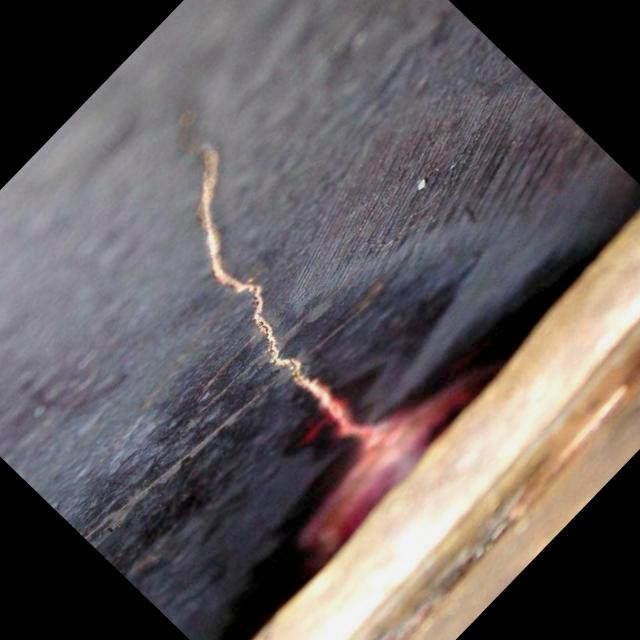defect: (161, 101, 385, 448)
